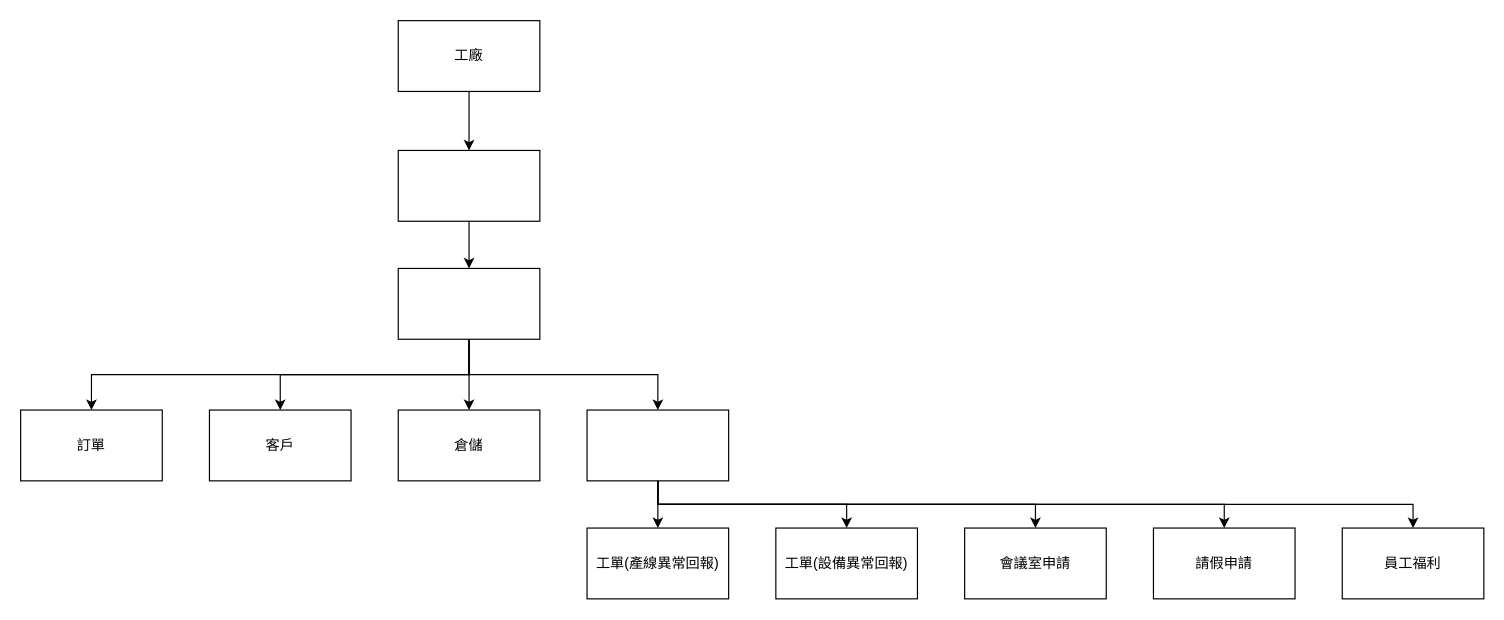
The diagram is 1504 pixels wide and 620 high, and some of its shapes have lost their labels. Here are the shapes that lost their labels. From the top down, the box of each, then its label:
(397, 149, 540, 221): 登入
(397, 267, 540, 339): 首頁
(586, 409, 729, 481): 員工功能區
